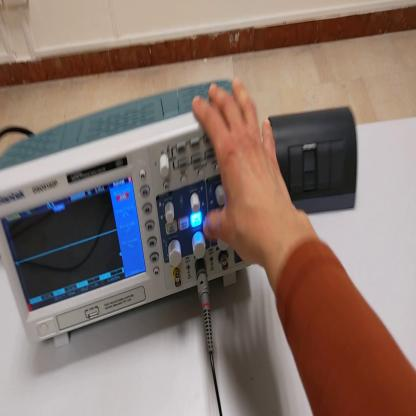hand: (193, 75, 293, 268)
oscilloscope: (2, 84, 252, 349)
